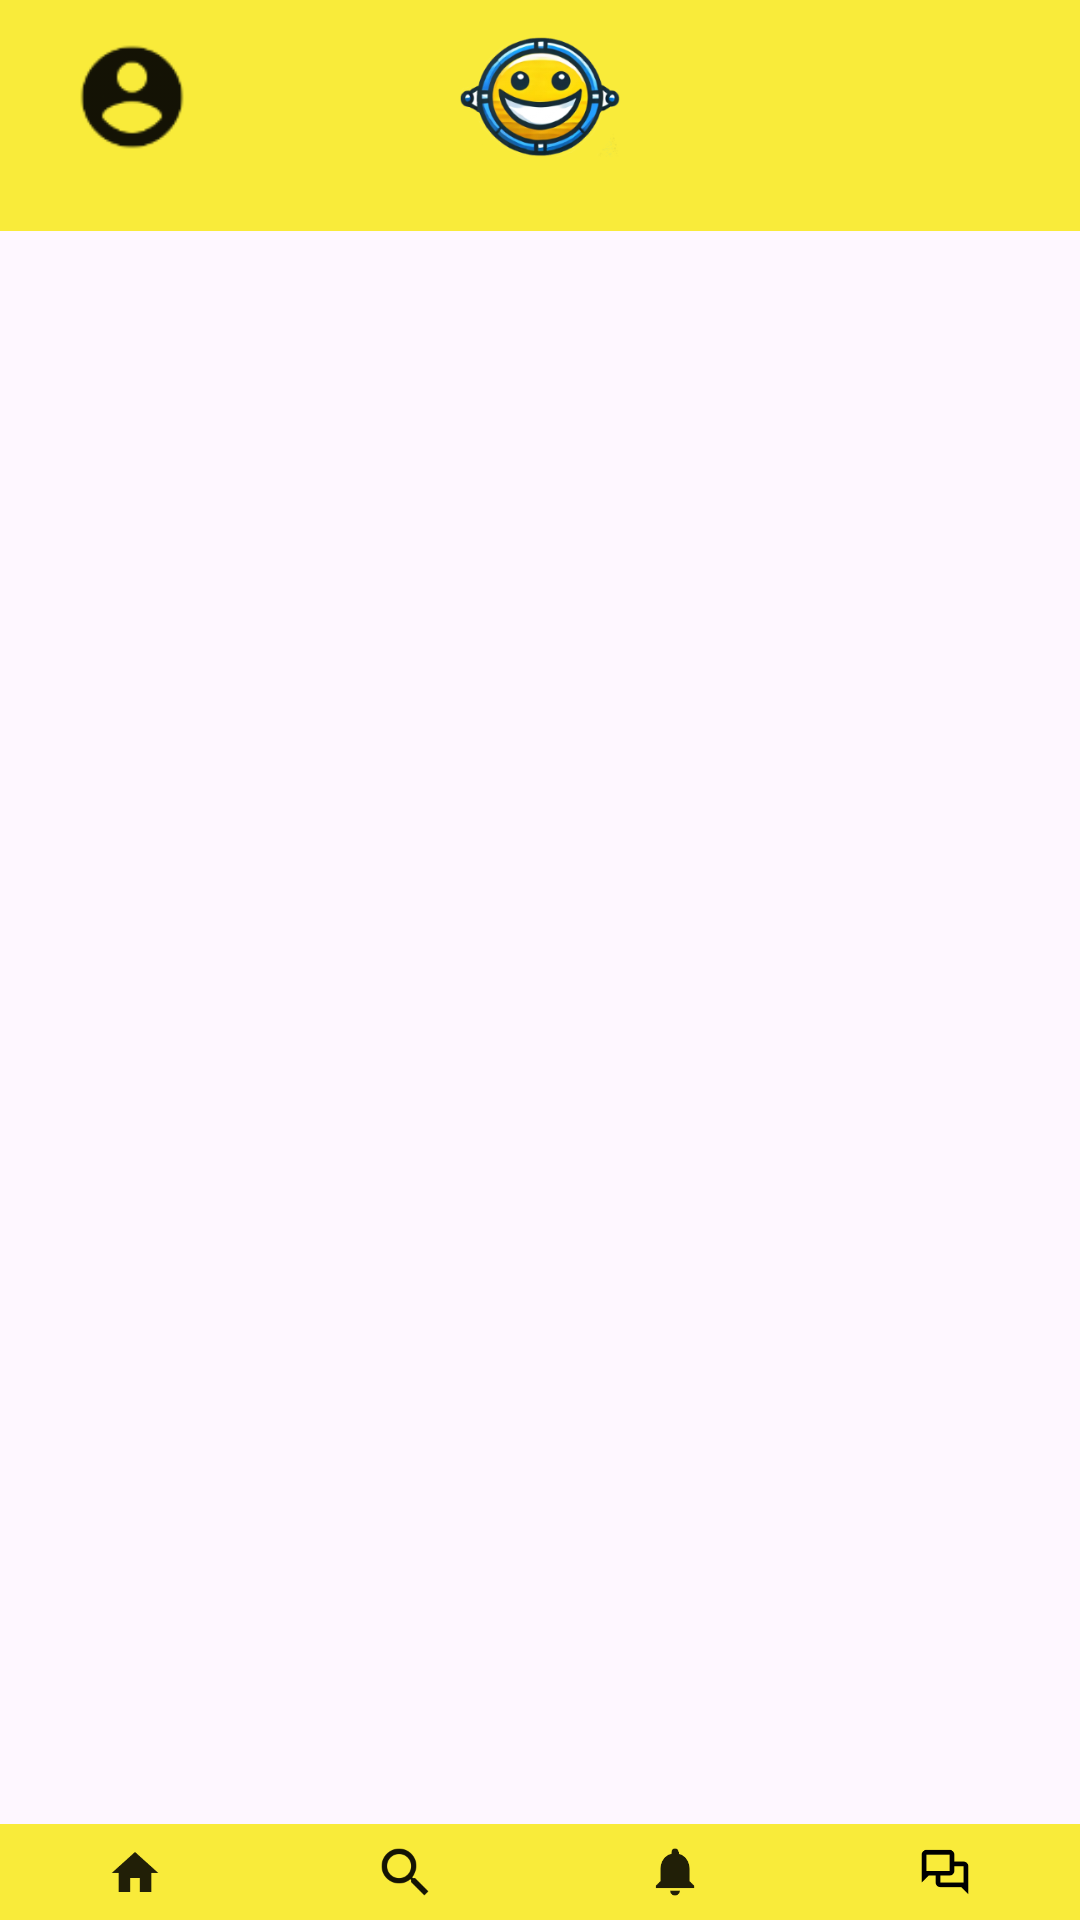

Where icons sit on this 1080 × 1920 app screen, as (x1, y1, x2, y2):
account: (81, 46, 183, 148)
Boton para ir a busquedas: (381, 1848, 429, 1896)
Boton para ir a chats: (921, 1850, 969, 1894)
Boton para ir a inicio: (112, 1852, 158, 1892)
Boton para ir a notificaciones: (656, 1848, 695, 1896)
